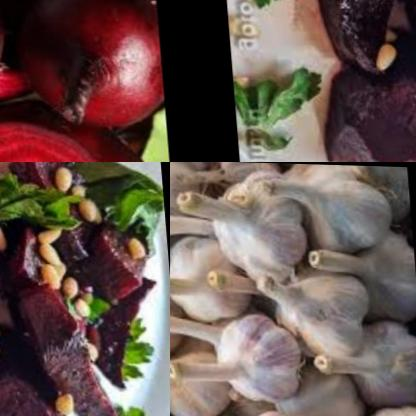beans: (30, 230, 95, 311), (53, 162, 101, 221), (369, 41, 398, 76), (123, 231, 150, 261), (47, 386, 73, 416), (0, 219, 7, 254)
beet: (16, 162, 151, 342), (14, 0, 163, 123), (15, 282, 127, 416), (310, 34, 416, 162), (0, 97, 170, 162), (305, 0, 413, 78), (0, 331, 71, 416)
garlic: (170, 162, 416, 416)
